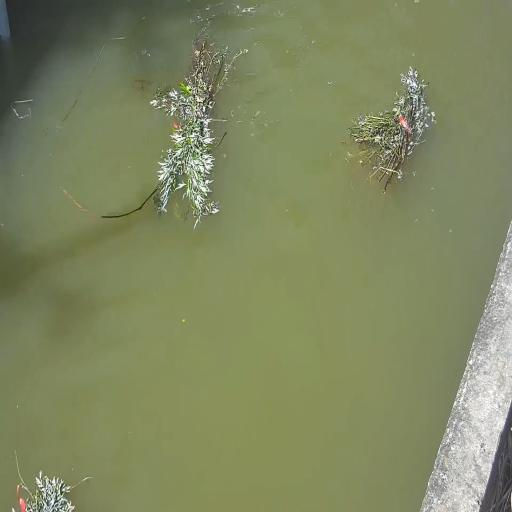twig: (79, 23, 242, 225), (347, 66, 434, 198), (12, 450, 91, 511)
